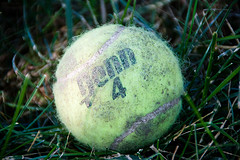tennis ball: (50, 21, 188, 154)
